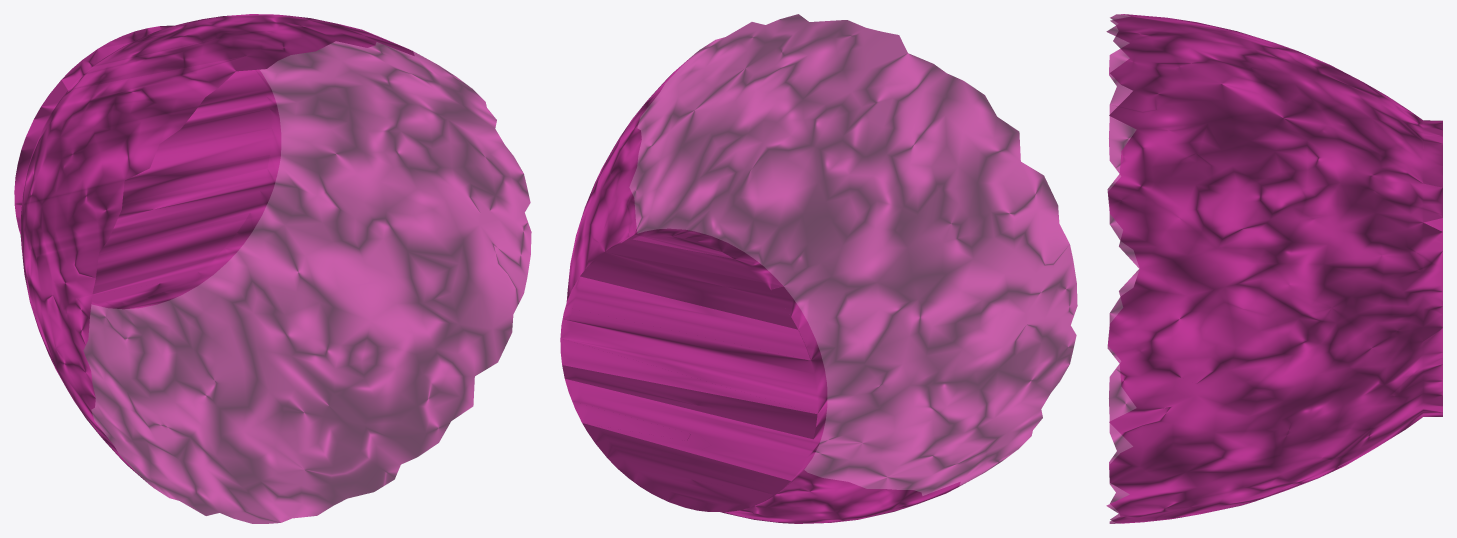
The model's file is model_align.obj.
3 views of the same model, side by side, from view 1: azimuth 30°, elevation 25°; view 2: azimuth 150°, elevation 25°; view 3: azimuth 270°, elevation 25° (orthographic).
Size of the model in its own units: 0.1567 by 0.1565 by 0.1033.
